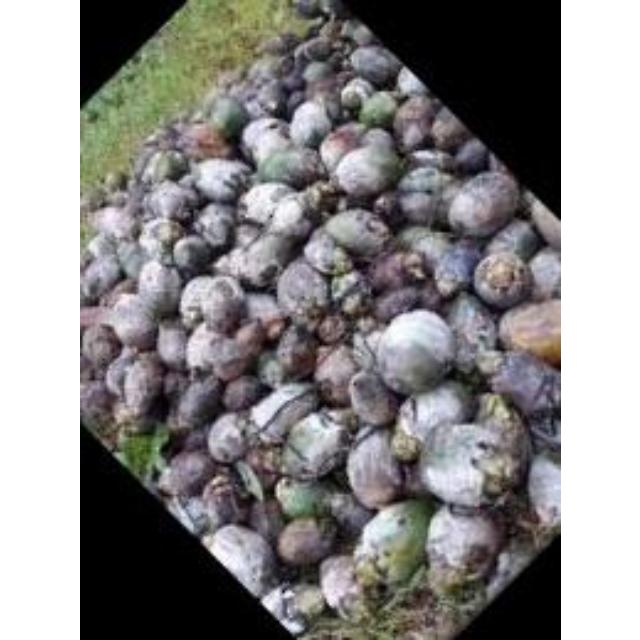damaged: (417, 420, 505, 504), (353, 498, 435, 588), (422, 504, 502, 588), (379, 314, 456, 394), (205, 524, 278, 596), (279, 409, 351, 481), (344, 428, 406, 508), (445, 172, 517, 238), (392, 384, 470, 444), (499, 298, 558, 366), (332, 141, 400, 199), (250, 382, 318, 440), (188, 322, 252, 380), (322, 207, 393, 259), (470, 250, 532, 308), (233, 232, 294, 286), (274, 258, 330, 316), (345, 370, 397, 428), (158, 451, 214, 501), (274, 476, 340, 518), (318, 554, 360, 616), (105, 296, 155, 348), (136, 260, 184, 314), (524, 452, 558, 528), (240, 116, 288, 160), (286, 102, 332, 146), (267, 192, 313, 236), (145, 180, 195, 220), (206, 96, 246, 136), (92, 204, 134, 242), (357, 90, 398, 126)
